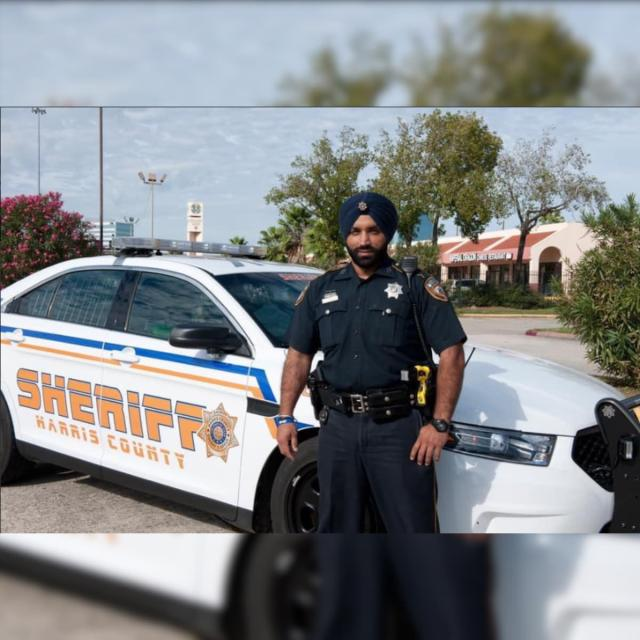police: (224, 180, 490, 543)
